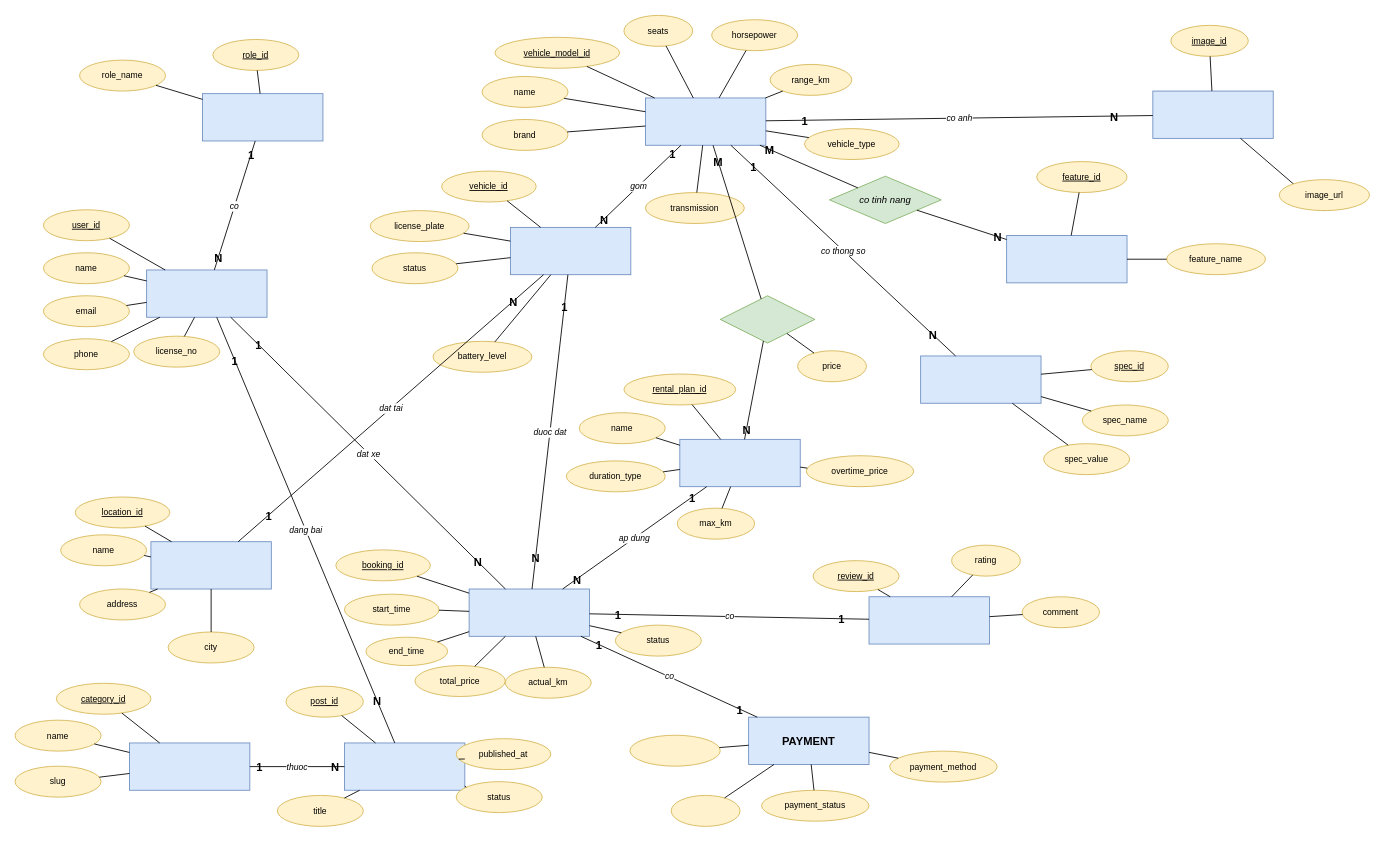
Image size: 1385x841. Some labels were removed from this diagram. The centre of each missing label's shape, as x and y in pixels:
amount: (x=705, y=810)
BLOG_CATEGORY: (x=189, y=766)
BLOG_POST: (x=404, y=766)
BOOKING: (x=529, y=612)
dinh gia: (x=767, y=319)
LOCATION: (x=210, y=565)
payment_id: (x=674, y=750)
RENTAL_PLAN: (x=739, y=463)
REVIEW: (x=928, y=620)
ROLE: (x=262, y=117)
USER: (x=206, y=293)
VEHICLE: (x=570, y=251)
VEHICLE_FEATURE: (x=1066, y=259)
VEHICLE_IMAGE: (x=1212, y=114)
VEHICLE_MODEL: (x=705, y=121)
VEHICLE_SPEC: (x=980, y=379)
